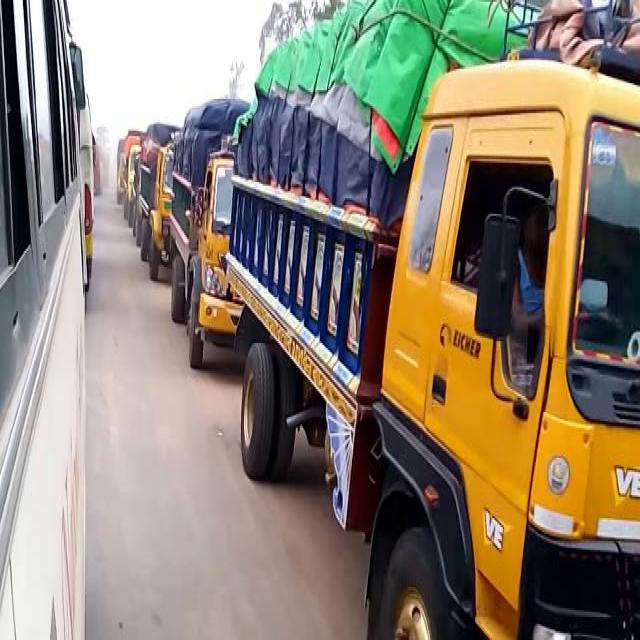18: (230, 3, 636, 633), (168, 96, 250, 369), (134, 121, 170, 280)
Truck: (0, 0, 89, 635)
